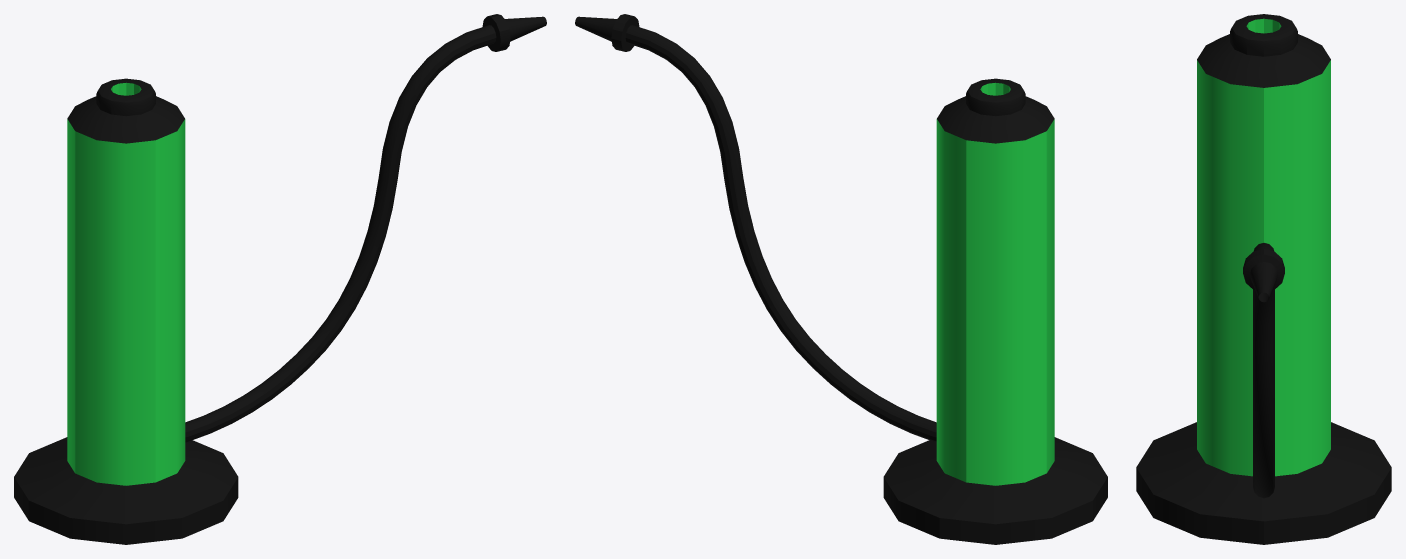
The model's file is Pompa1.fbx.
The picture shows the model from 3 angles, left to right: view 1: azimuth 30°, elevation 25°; view 2: azimuth 150°, elevation 25°; view 3: azimuth 270°, elevation 25°; orthographic projection. The views are drawn at different scales.
Visible parts, largest first — view 1: Cylinder.010; view 2: Cylinder.010; view 3: Cylinder.010.
Part boxes in pixels (<box>): Cylinder.010: <box>14,14,546,544</box>; Cylinder.010: <box>575,14,1107,544</box>; Cylinder.010: <box>1136,14,1391,544</box>.
Bounding box in the file's own units: 85.25 × 64.51 × 32.14.
